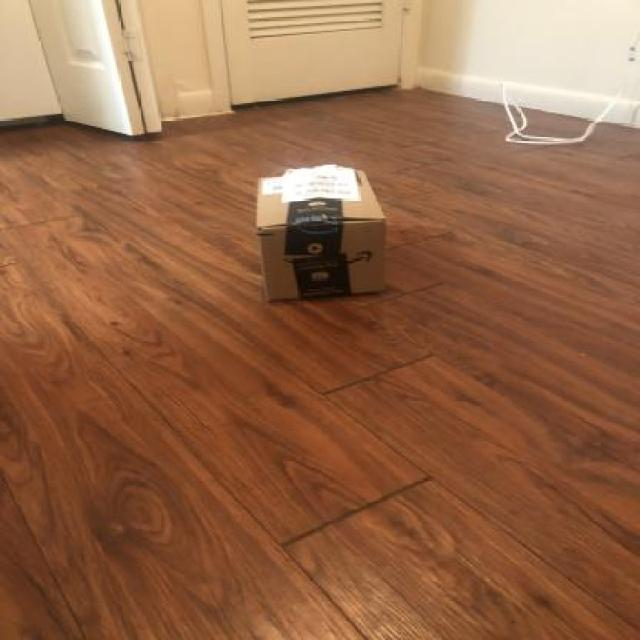cardboxes: (248, 164, 395, 308)
